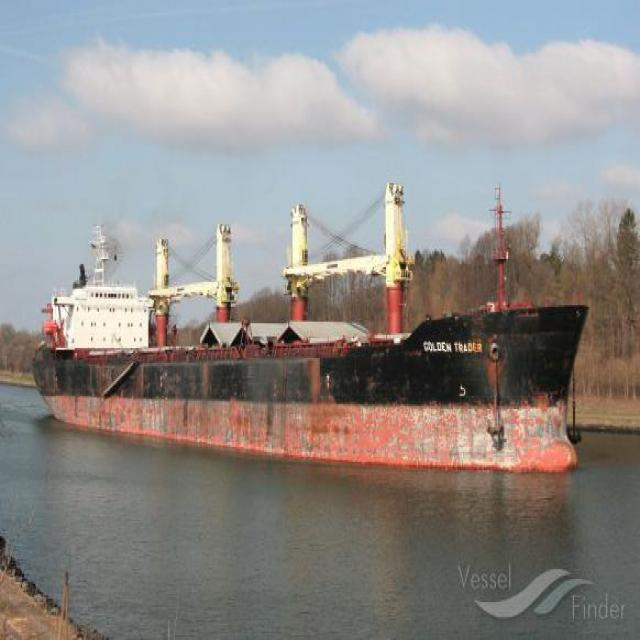OCR: (422, 335, 484, 361)
